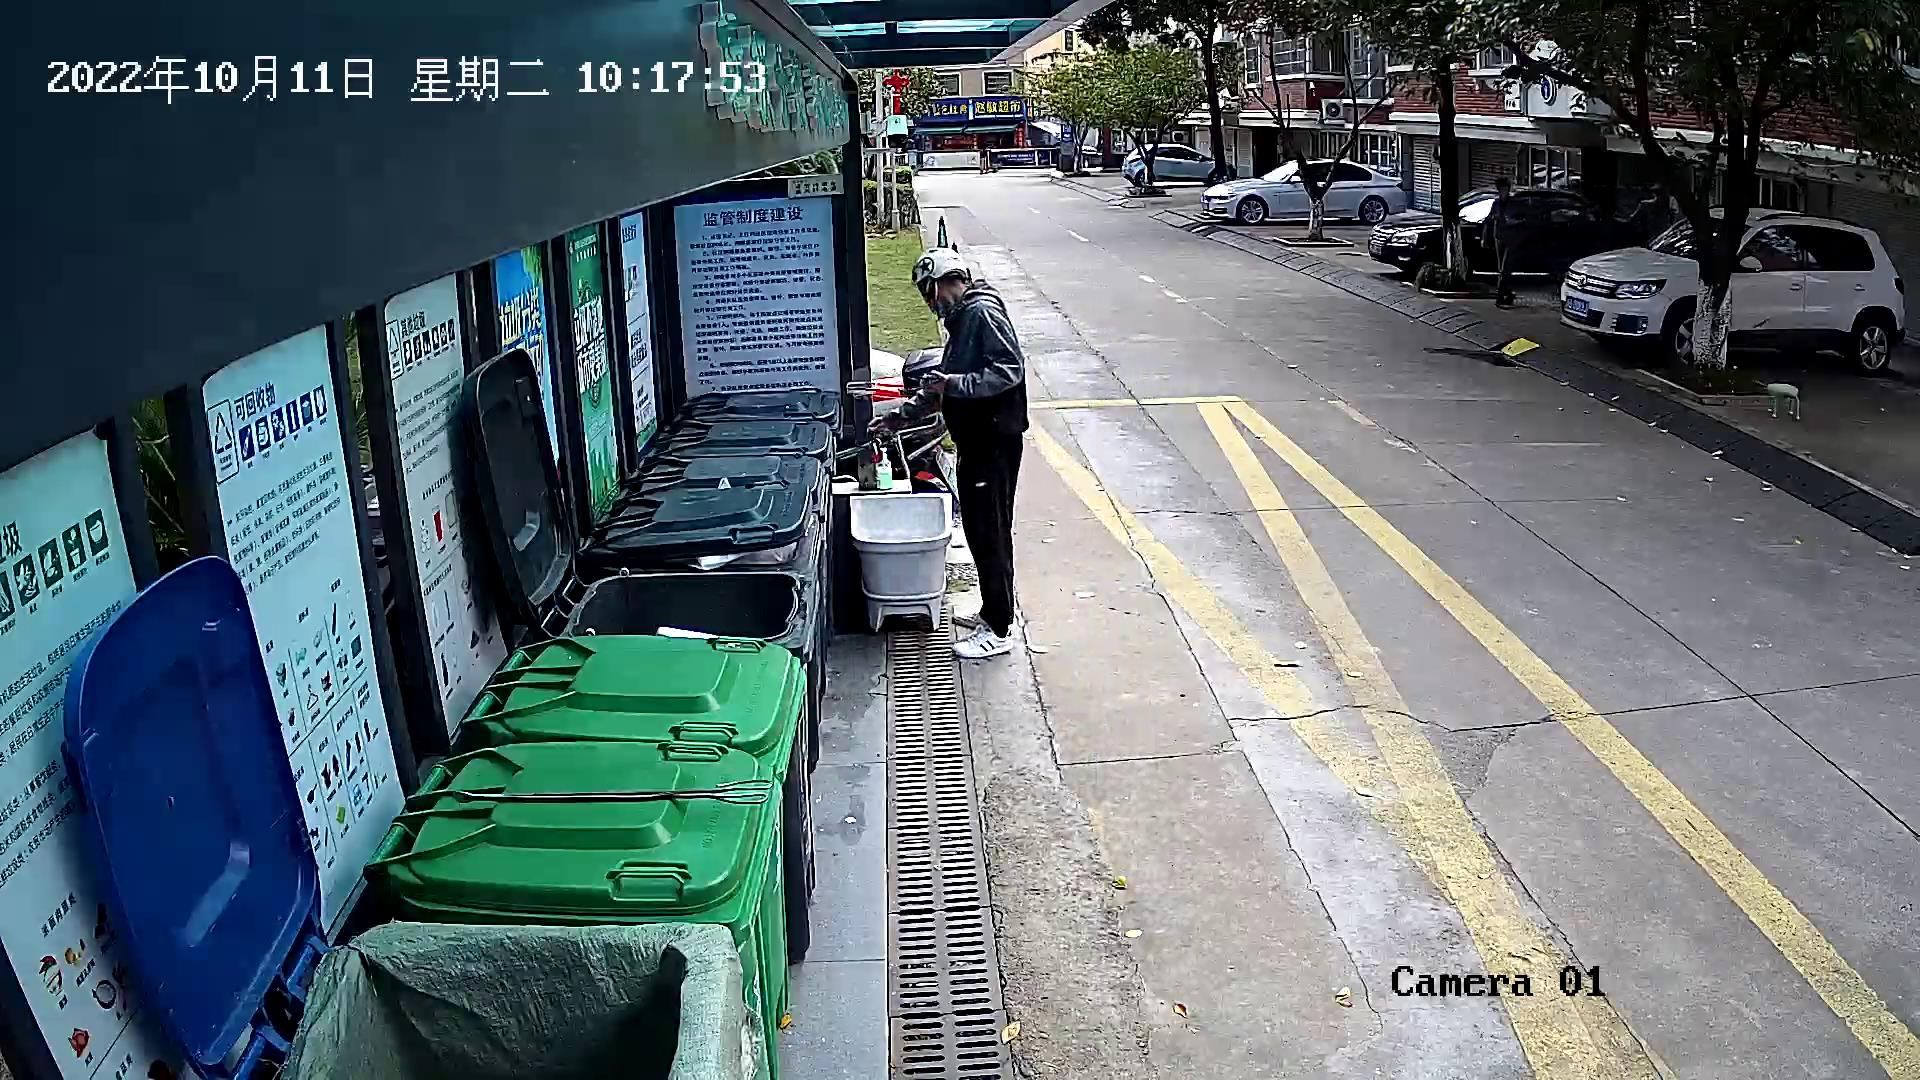person: (863, 240, 1035, 676)
